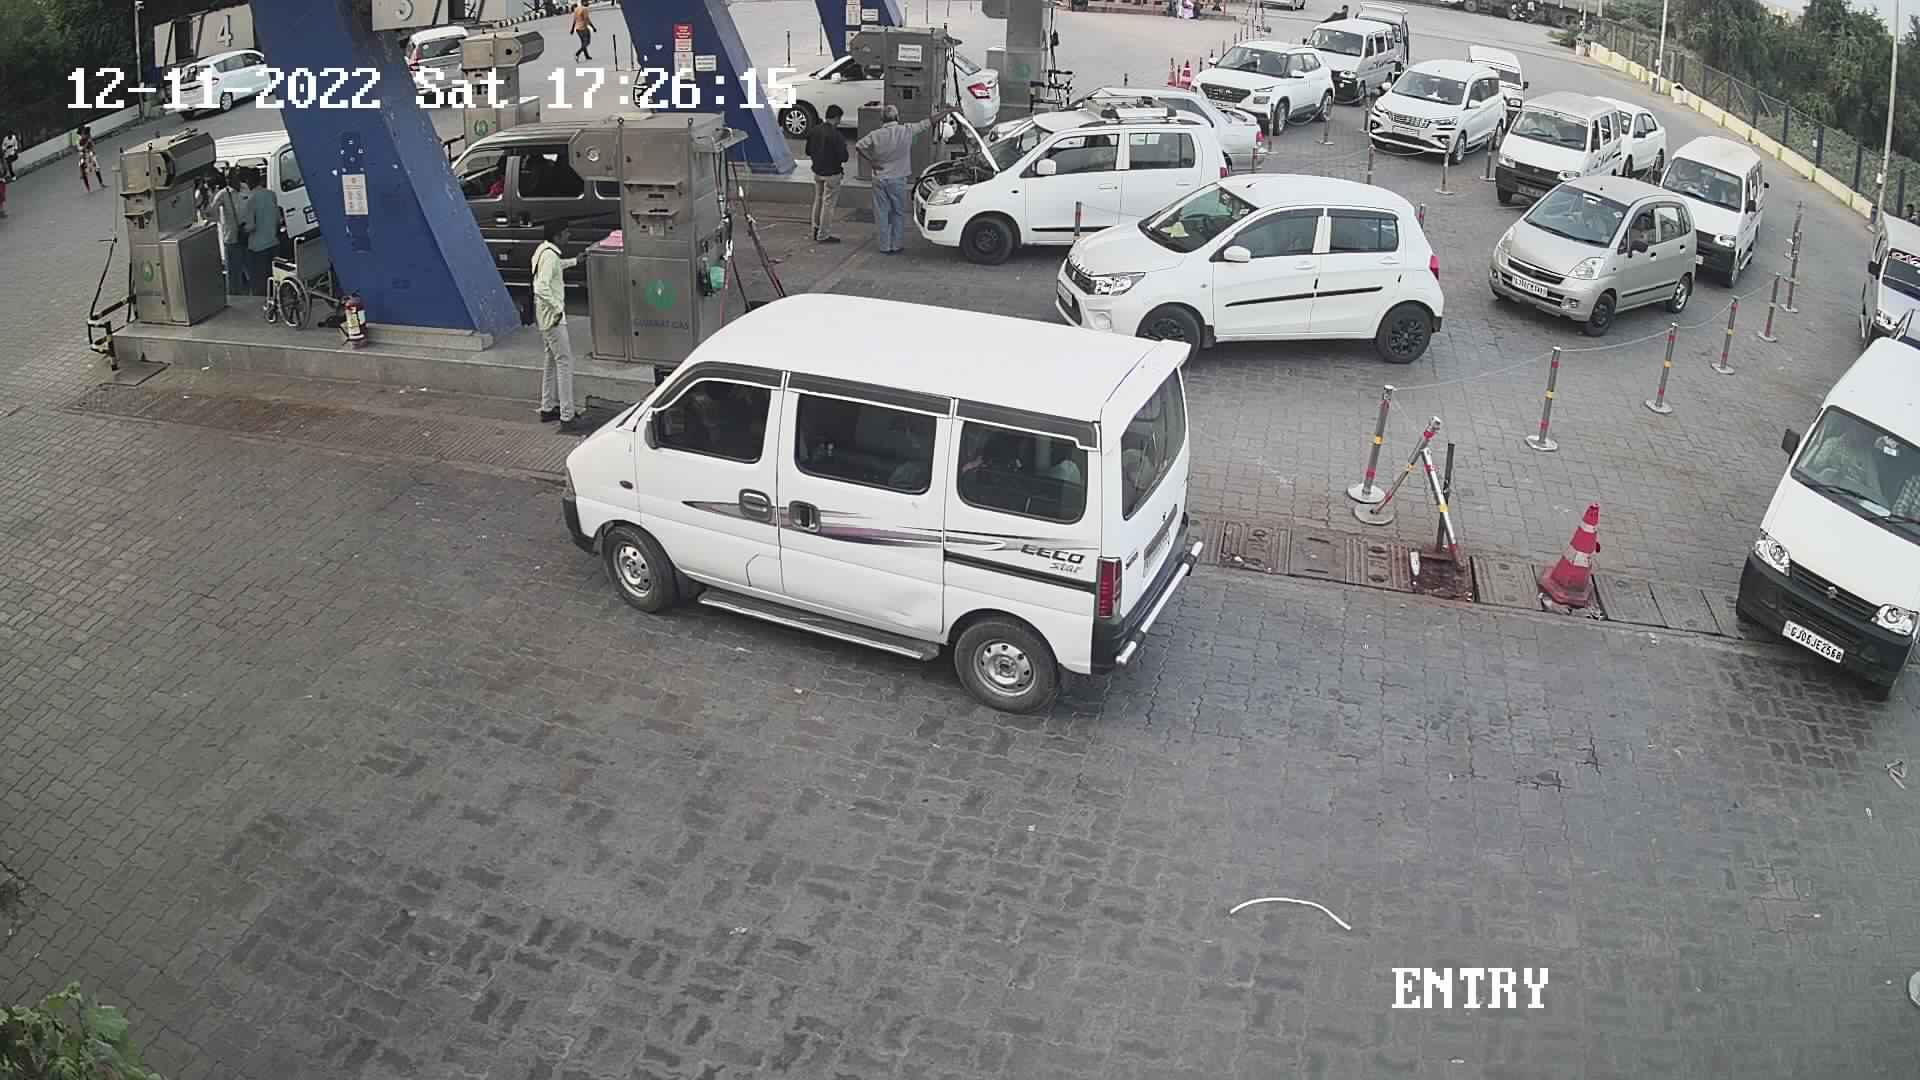Auto: (298, 112, 512, 339)
Car: (530, 258, 1215, 723), (1068, 169, 1452, 373), (1730, 335, 1920, 694), (411, 102, 690, 306), (909, 99, 1244, 264), (1478, 167, 1708, 338), (769, 24, 975, 158), (1044, 74, 1275, 179), (185, 128, 335, 286), (1353, 42, 1532, 170), (1642, 125, 1776, 291), (1180, 20, 1350, 140), (1482, 83, 1635, 214), (167, 24, 289, 132), (1288, 7, 1416, 108), (1853, 215, 1919, 402), (386, 17, 495, 109), (1589, 88, 1672, 189)
